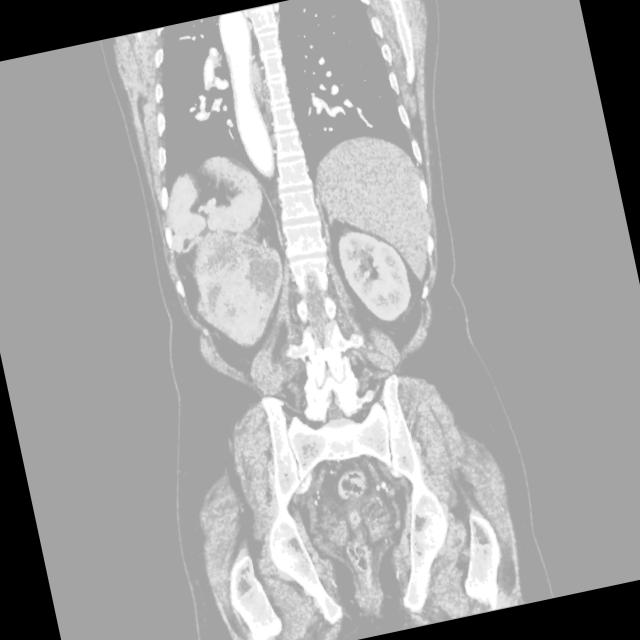TUMOR: (99, 102, 521, 397)
